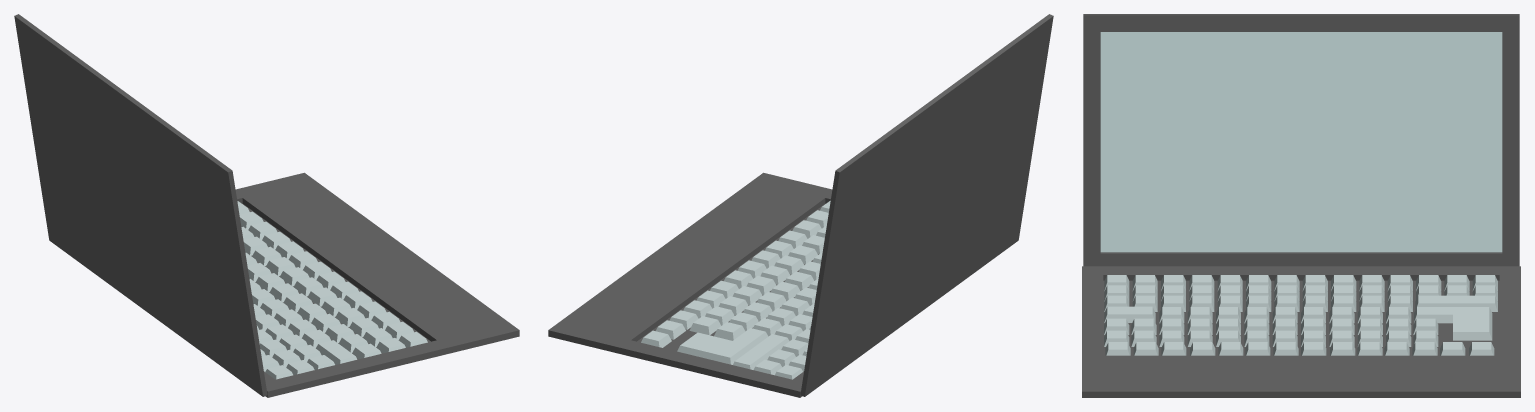
3 views of the same model, side by side, from view 1: azimuth 30°, elevation 25°; view 2: azimuth 150°, elevation 25°; view 3: azimuth 270°, elevation 25° (orthographic).
Parts seen in each view (by area): view 1: PC; view 2: PC; view 3: PC.
Boxes of the visible parts, x1=… form: PC: x1=14, y1=14, x2=519, y2=397; PC: x1=548, y1=14, x2=1053, y2=397; PC: x1=1082, y1=14, x2=1520, y2=397.
Size of the model in its own units: 152 by 117 by 195.
